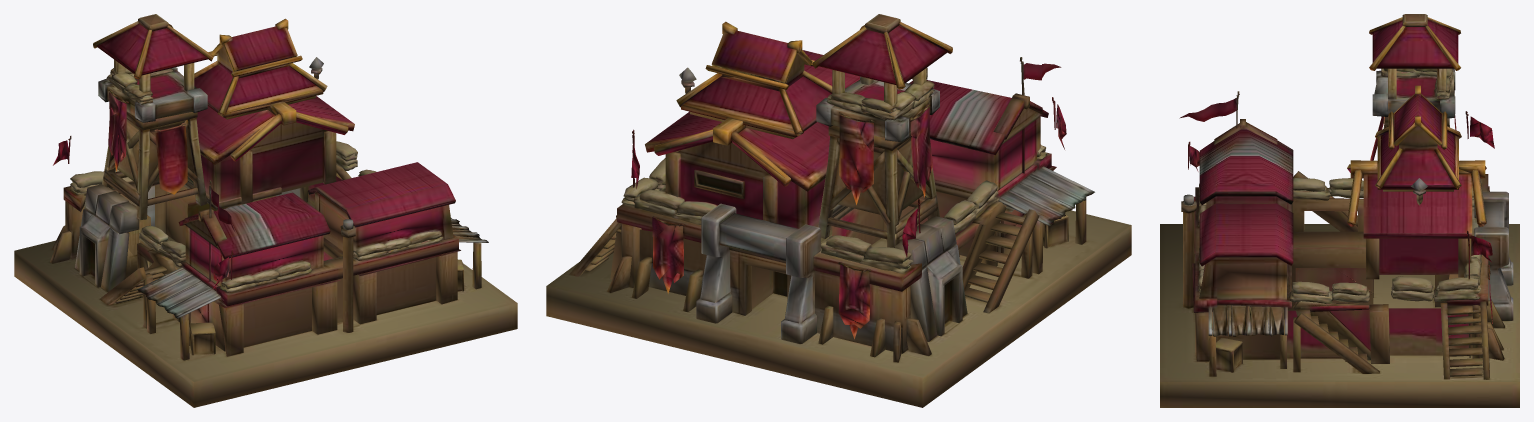
Rendered from barracks.glb.
3 renders of one model, left to right at view 1: azimuth 30°, elevation 25°; view 2: azimuth 150°, elevation 25°; view 3: azimuth 270°, elevation 25°, orthographic. The views are drawn at different scales.
Visible parts, largest first — view 1: Body, Trim; view 2: Body, Trim; view 3: Body, Trim.
Part boxes in pixels (x1=…): Body: x1=14, y1=14, x2=517, y2=407; Trim: x1=93, y1=18, x2=347, y2=155; Body: x1=546, y1=14, x2=1131, y2=407; Trim: x1=653, y1=21, x2=952, y2=270; Body: x1=1160, y1=14, x2=1519, y2=407; Trim: x1=1189, y1=17, x2=1486, y2=308.
Bounding box in the file's own units: 8.26 × 6.68 × 7.94.
Materials: 2 (2 with a texture image).
